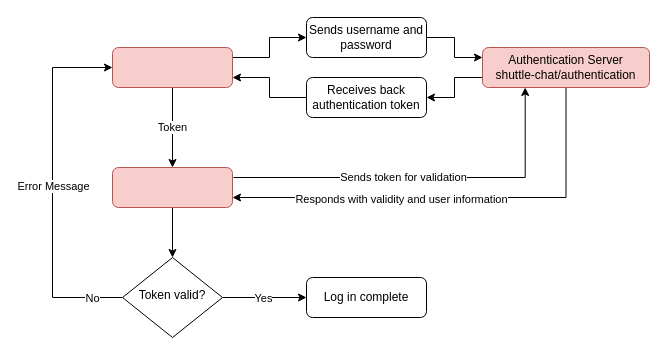
This 667x355 diagram has some shape labels left out. Each missing label, with the centre of its shape:
Shuttle Client: point 172,67
Shuttle Server: point 172,187
